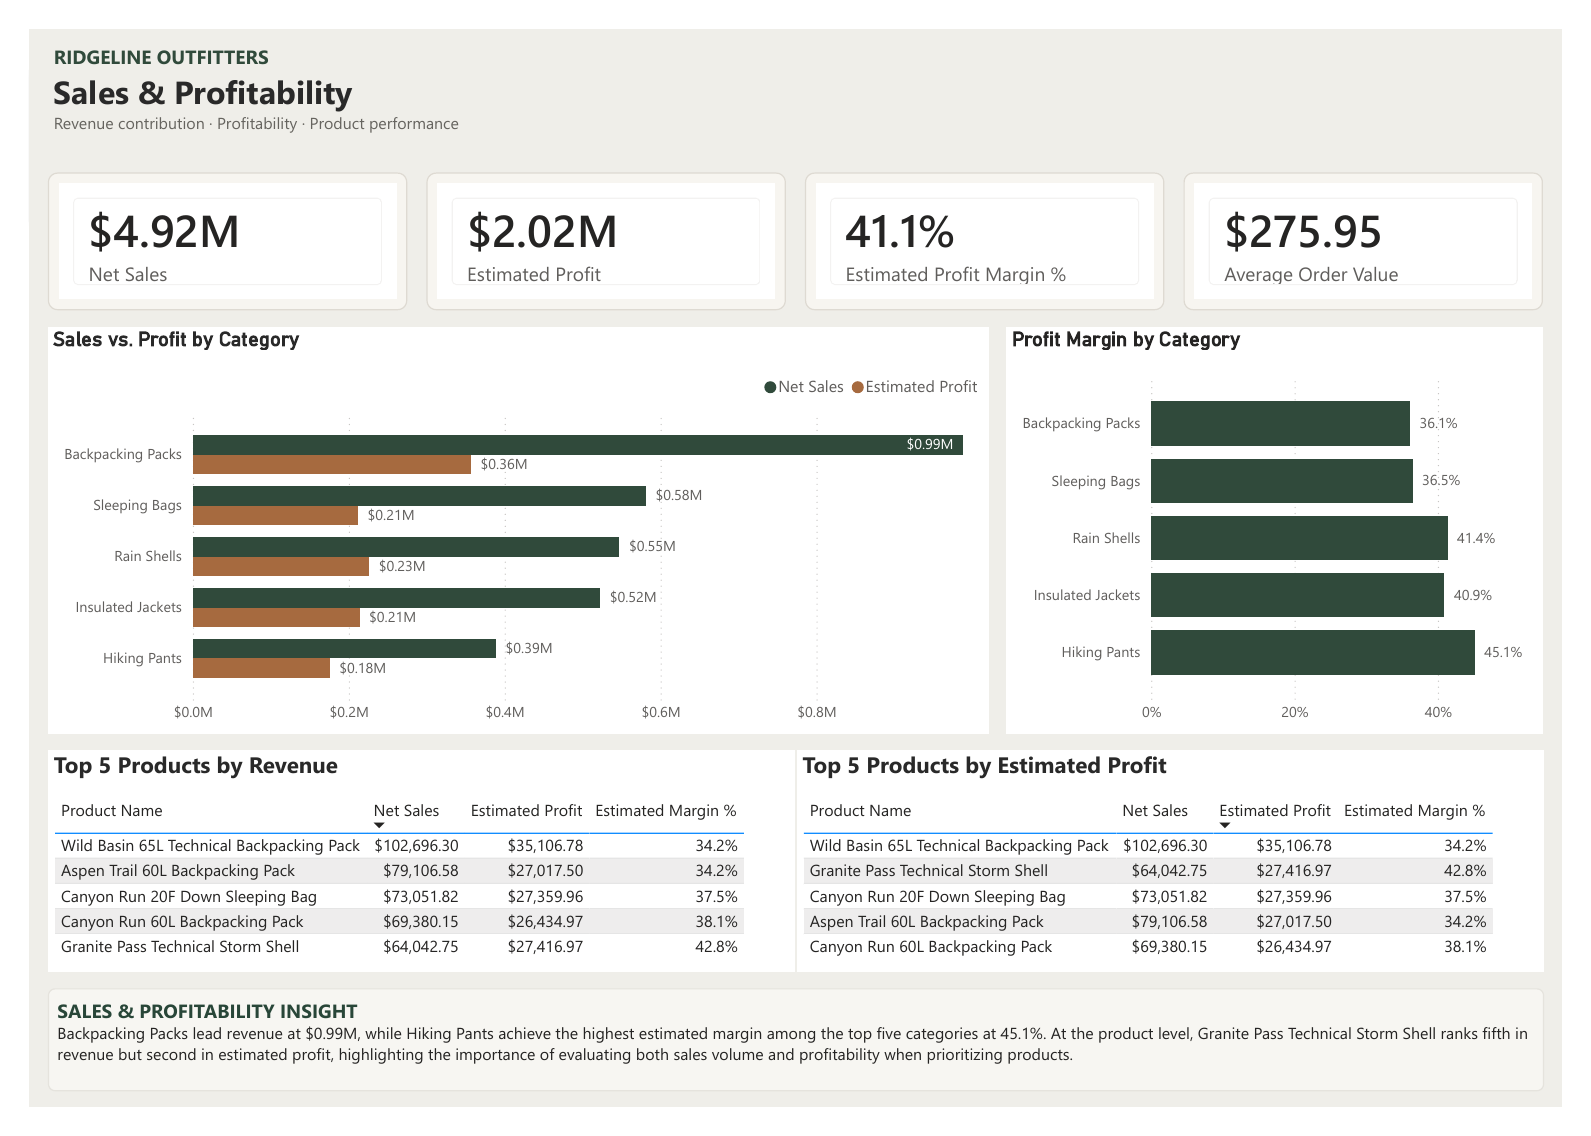

The dashboard page shown, as its layout file describes it:
{"tool":"powerbi","page":{"name":"Sales & Profitability","canvas":[1280,900],"ordinal":1},"visuals":[{"type":"cardVisual","fields":{"Data":["_Measures.Net Sales"]},"box":[16,120,300,115],"z":0},{"type":"textbox","box":[16,8,599.7,130],"z":1000},{"type":"cardVisual","fields":{"Data":["_Measures.Estimated Profit"]},"box":[332,120,300,115],"z":2000},{"type":"cardVisual","fields":{"Data":["_Measures.Profit Margin %"]},"box":[648,120,300,115],"z":3000},{"type":"cardVisual","fields":{"Data":["_Measures.Average Order Value"]},"box":[964,120,300,115],"z":4000},{"type":"clusteredBarChart","title":"Sales vs. Profit by Category","fields":{"Category":["gold_sales_performance.Category"],"Y":["_Measures.Net Sales","_Measures.Estimated Profit"]},"box":[16,249,786,340],"z":5000},{"type":"clusteredBarChart","title":"Profit Margin by Category","fields":{"Category":["gold_inventory_demand_planning.Category"],"Y":["_Measures.Profit Margin %"]},"box":[816,249,448,340],"z":6000},{"type":"tableEx","title":"Top 5 Products by Revenue","fields":{"Values":["gold_inventory_demand_planning.ProductName","_Measures.Net Sales","_Measures.Estimated Profit","_Measures.Profit Margin %"]},"box":[15.9,602.4,624.3,184.9],"z":7000},{"type":"textbox","box":[15.9,801.3,1248.6,85.5],"z":8000},{"type":"tableEx","title":"Top 5 Products by Estimated Profit","fields":{"Values":["gold_inventory_demand_planning.ProductName","_Measures.Net Sales","_Measures.Estimated Profit","_Measures.Profit Margin %"]},"box":[641,602.4,624.3,184.9],"z":9000}]}

Visuals, with their boxes in screenshot pixels (x1, y1, x2, y2), scaled from the page's 1280x900 canvas onto the 1591x1136 screenshot:
cardVisual - _Measures.Net Sales: x1=20 y1=151 x2=393 y2=297
textbox: x1=20 y1=10 x2=765 y2=174
cardVisual - _Measures.Estimated Profit: x1=413 y1=151 x2=786 y2=297
cardVisual - _Measures.Profit Margin %: x1=805 y1=151 x2=1178 y2=297
cardVisual - _Measures.Average Order Value: x1=1198 y1=151 x2=1571 y2=297
"Sales vs. Profit by Category" clusteredBarChart: x1=20 y1=314 x2=997 y2=743
"Profit Margin by Category" clusteredBarChart: x1=1014 y1=314 x2=1571 y2=743
"Top 5 Products by Revenue" tableEx: x1=20 y1=760 x2=796 y2=994
textbox: x1=20 y1=1011 x2=1572 y2=1119
"Top 5 Products by Estimated Profit" tableEx: x1=797 y1=760 x2=1573 y2=994
